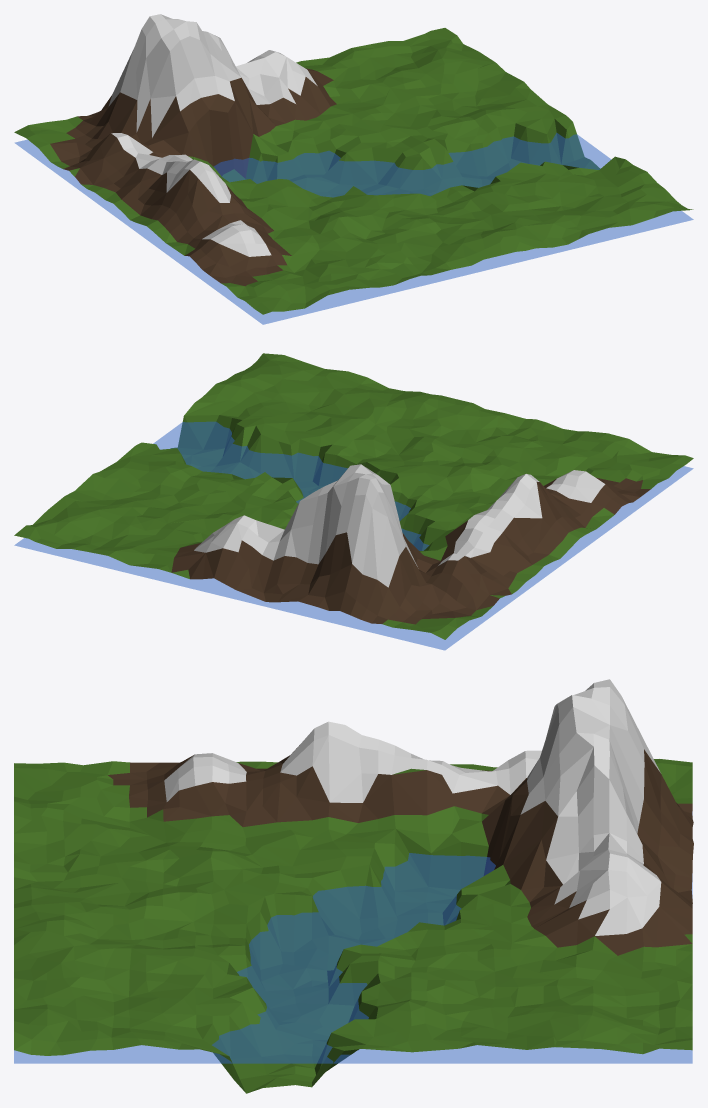
File: terrain1.fbx
3 renders of one model, top to bottom at view 1: azimuth 30°, elevation 25°; view 2: azimuth 150°, elevation 25°; view 3: azimuth 270°, elevation 25°, orthographic. The views are drawn at different scales.
Visible parts, largest first — view 1: Plane; view 2: Plane; view 3: Plane.
Part boxes in pixels (<box>): Plane: <box>14,14,693,324</box>; Plane: <box>14,353,693,650</box>; Plane: <box>14,679,693,1093</box>.
Bounding box in the file's own units: 2005 × 654 × 2004.
